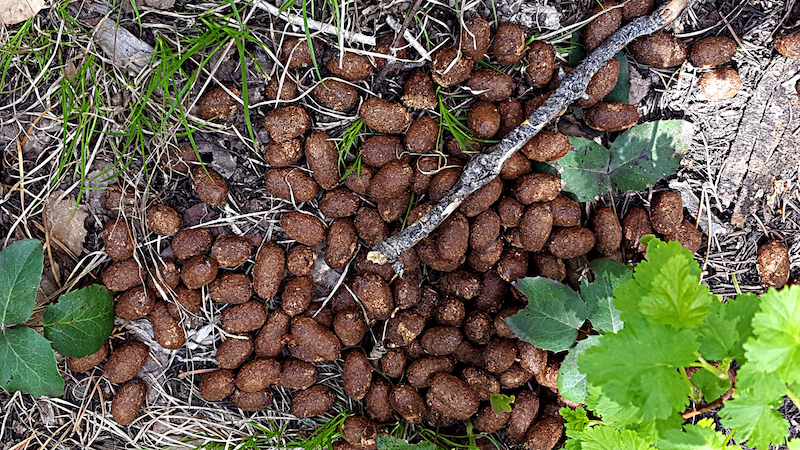Elk: (293, 81, 663, 424), (56, 186, 398, 403)
